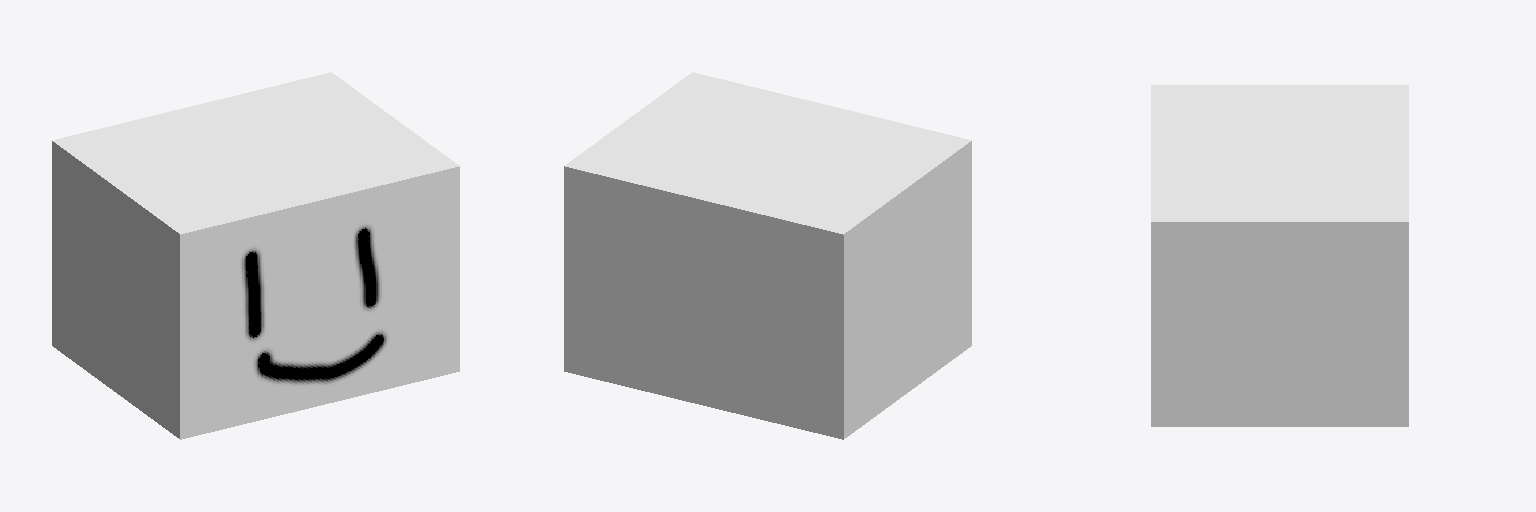
3 views of the same model, side by side, from view 1: azimuth 30°, elevation 25°; view 2: azimuth 150°, elevation 25°; view 3: azimuth 270°, elevation 25° (orthographic).
Visible parts, largest first — view 1: head; view 2: head; view 3: head.
Boxes of the visible parts, <box> form: head: <box>52,72,459,439</box>; head: <box>564,72,971,439</box>; head: <box>1151,85,1408,426</box>.
Size of the model in its own units: 2 by 1.4 by 1.59.
1 materials, 1 textured.